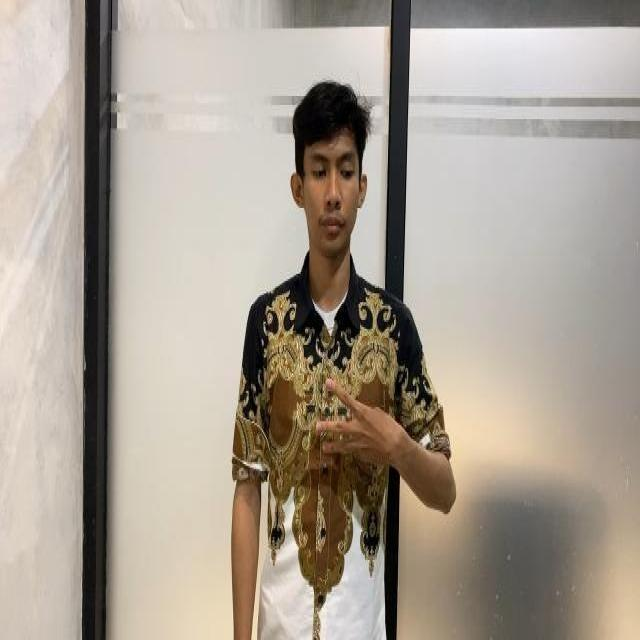E: (309, 364, 412, 476)
